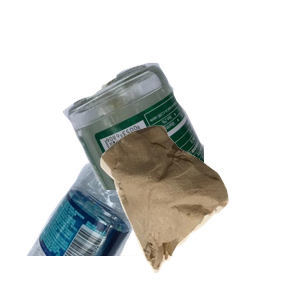glass: (60, 60, 300, 240)
metal: (99, 70, 236, 176)
plastic: (24, 120, 182, 300)
trash: (98, 123, 300, 300)
